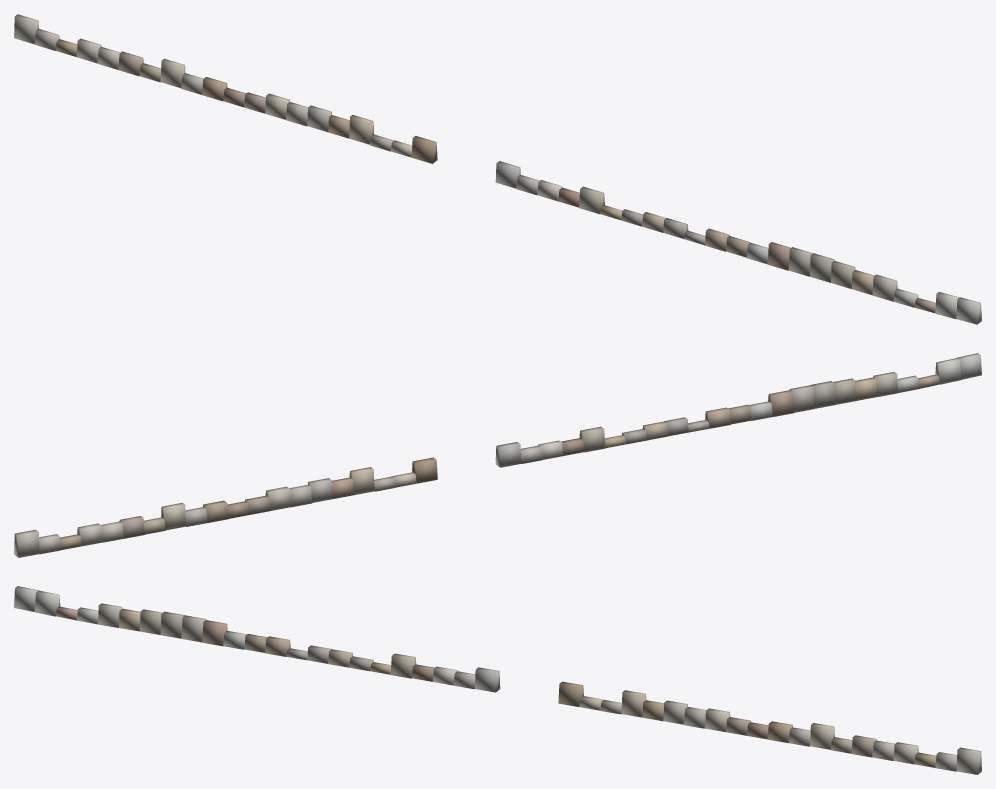
File: farm_11_6_collision.glb
The picture shows the model from 3 angles, top to bottom: view 1: azimuth 90°, elevation 25°; view 2: azimuth 150°, elevation 25°; view 3: azimuth 270°, elevation 25°; orthographic projection.
Parts seen in each view (by area): view 1: geometry_0; view 2: geometry_0; view 3: geometry_0.
Part boxes in pixels (bbox=[...]): geometry_0: bbox=[14, 14, 981, 324]; geometry_0: bbox=[14, 353, 981, 557]; geometry_0: bbox=[14, 586, 981, 774].
Bounding box in the file's own units: 35.58 × 5.82 × 63.2.
